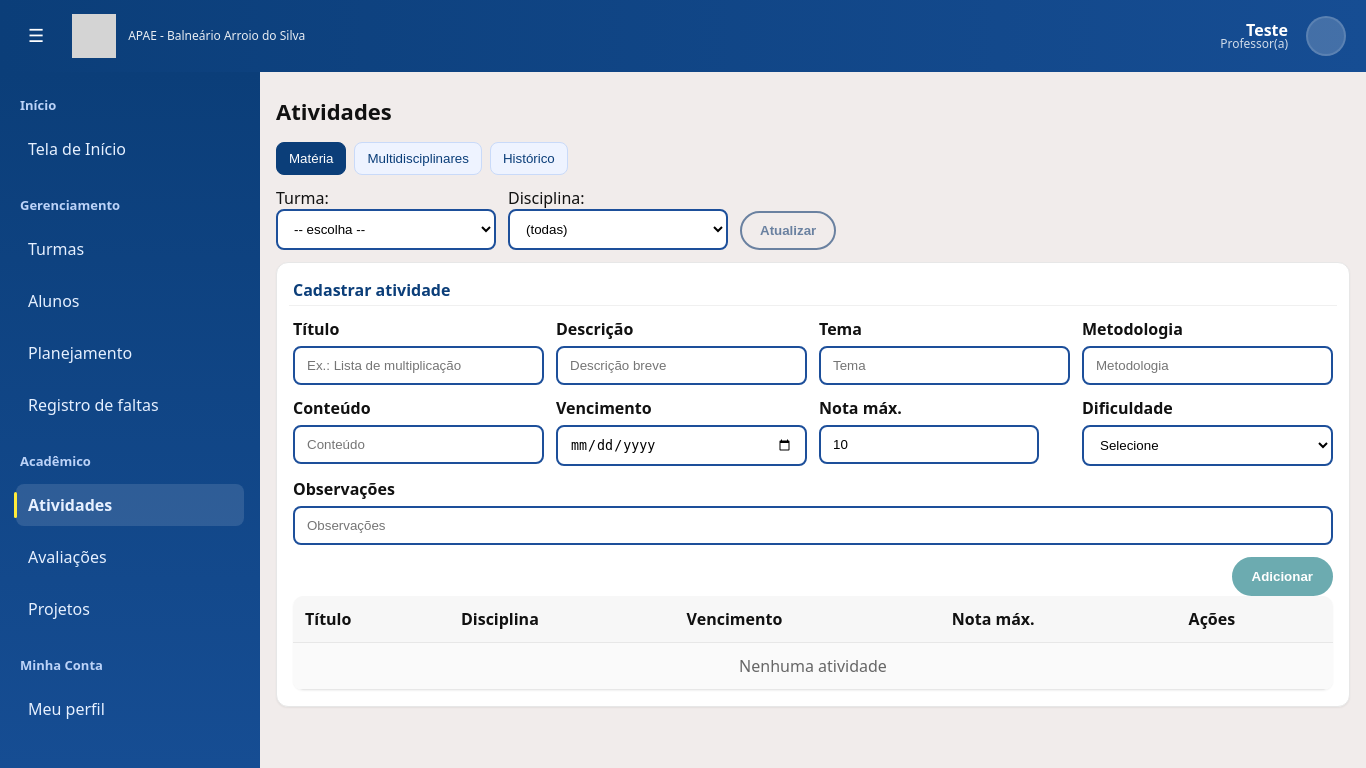
Test: Histórico Acadêmico › exibe histórico unificado de atividades, projetos e avaliações
Click the button "Histórico" at (529, 159), box [490,142,568,175]
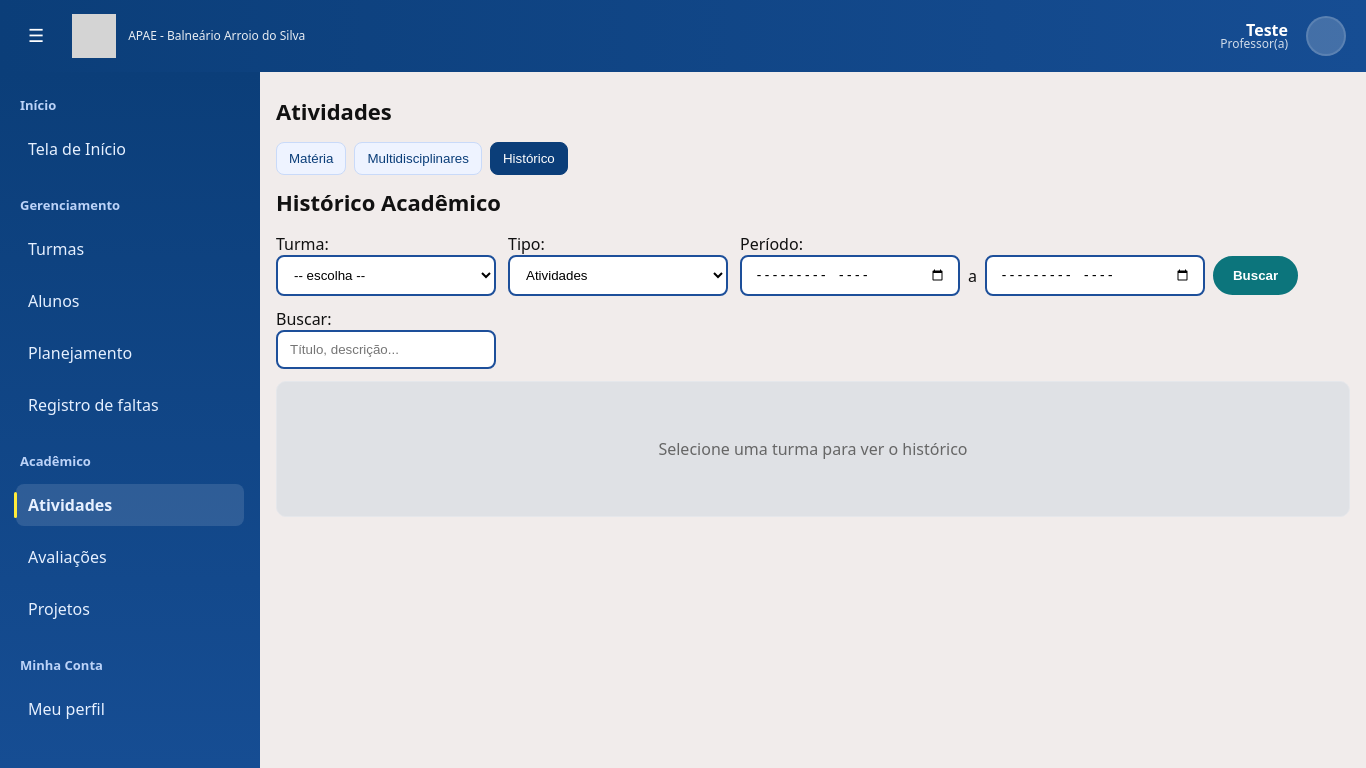
Selecionar turma
Select "Turma 1" in the dropdown below "Turma:" at (386, 276), box [276,255,496,296]
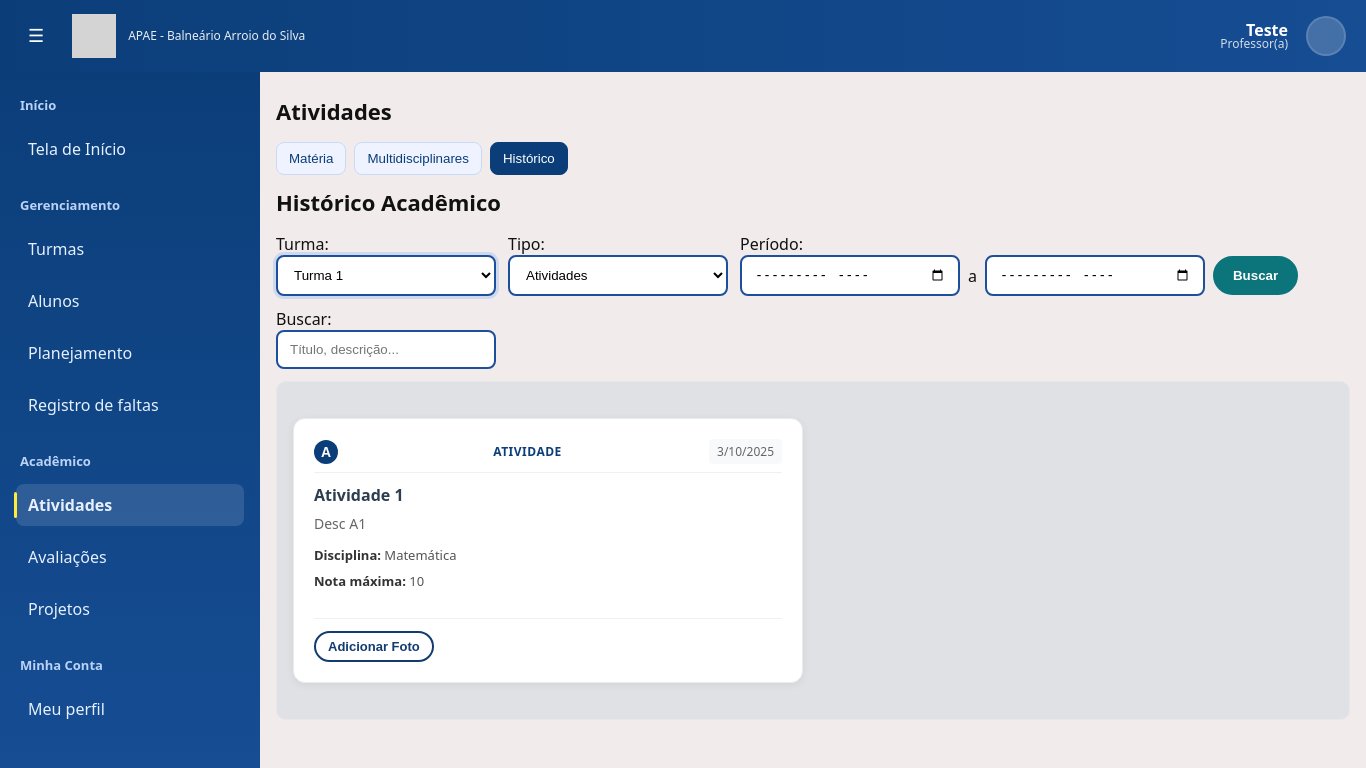
expect the heading "Atividade 1" is shown: met, box [314,484,404,506]
expect the text "Desc A1" is shown: met, box [314,514,366,533]
Select "Todos" in the dropdown below "Tipo:" at (618, 276), box [508,255,728,296]
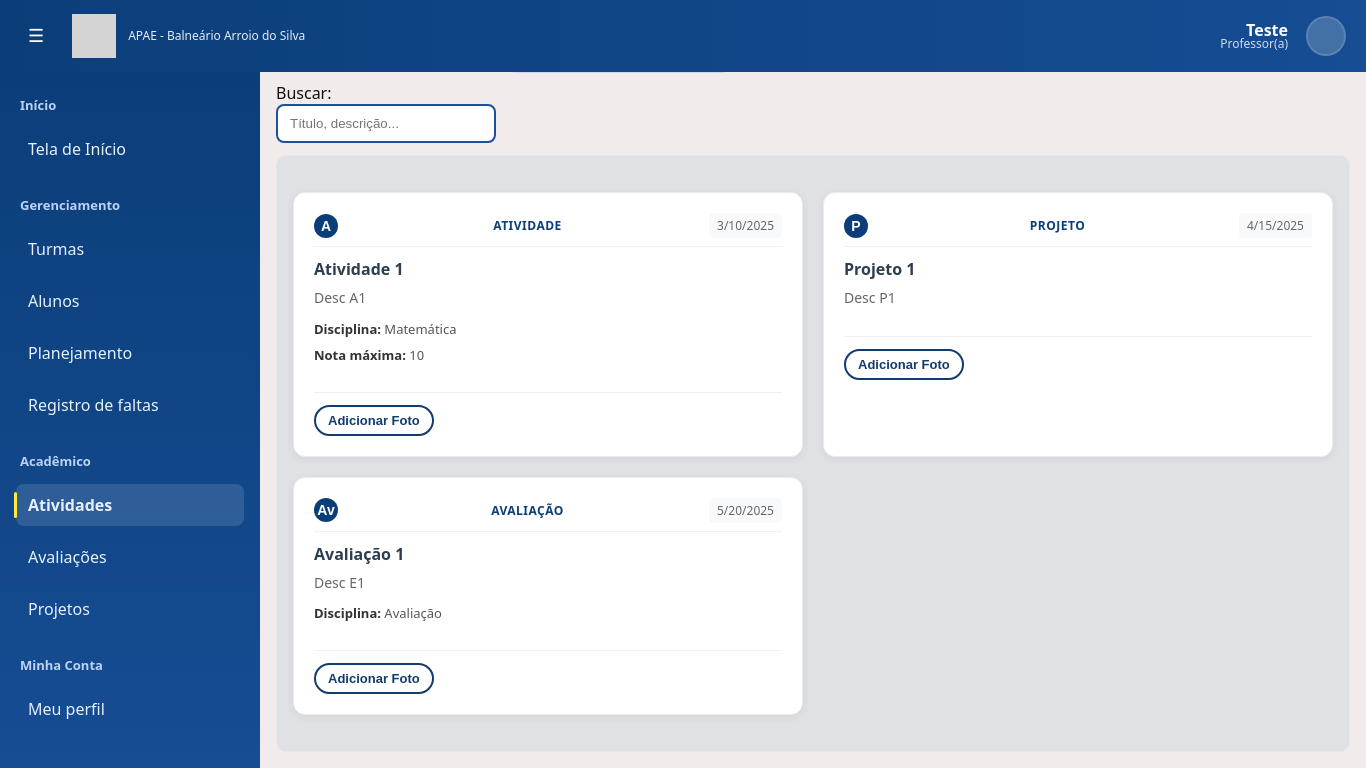
expect the heading "Projeto 1" is shown: met, box [844,258,915,280]
expect the text "Desc P1" is shown: met, box [844,288,896,307]
expect the heading "Avaliação 1" is shown: met, box [314,543,404,565]
